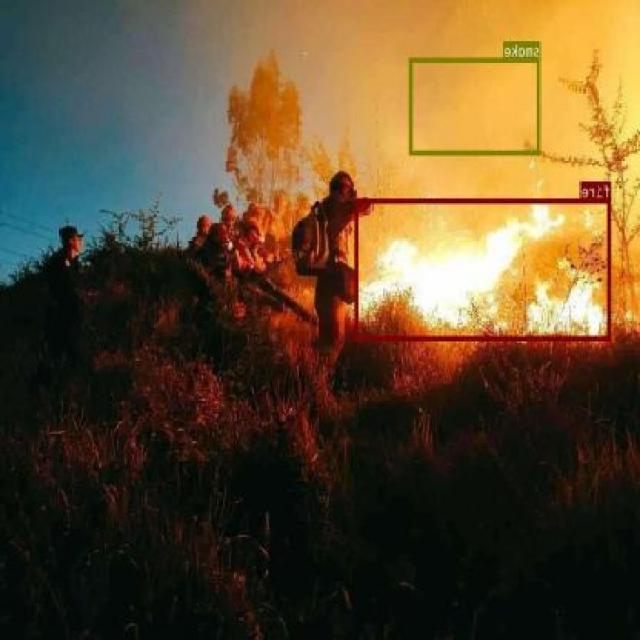Fire: (356, 198, 612, 340)
Smoke: (410, 57, 541, 154)
